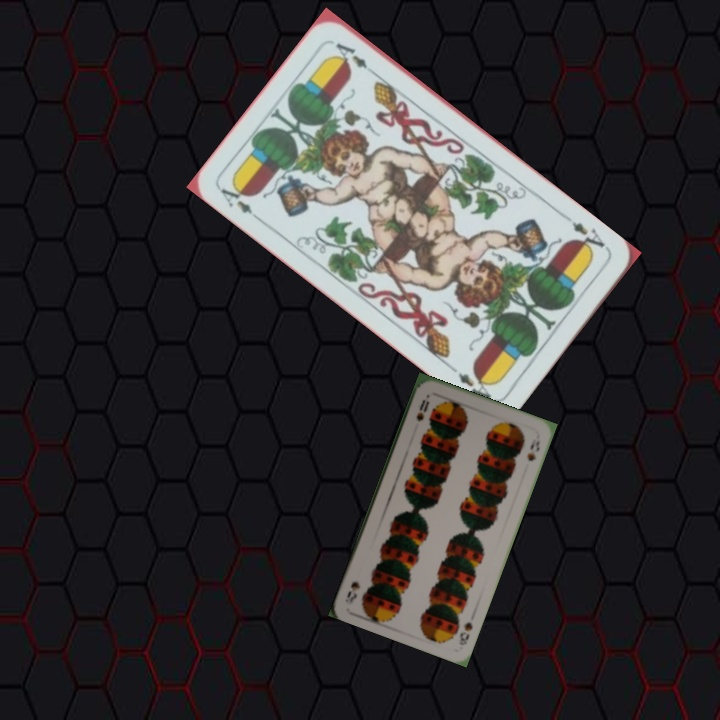EA: (216, 179, 266, 225), (567, 217, 612, 257)
S8: (455, 618, 475, 648), (412, 395, 432, 424)
